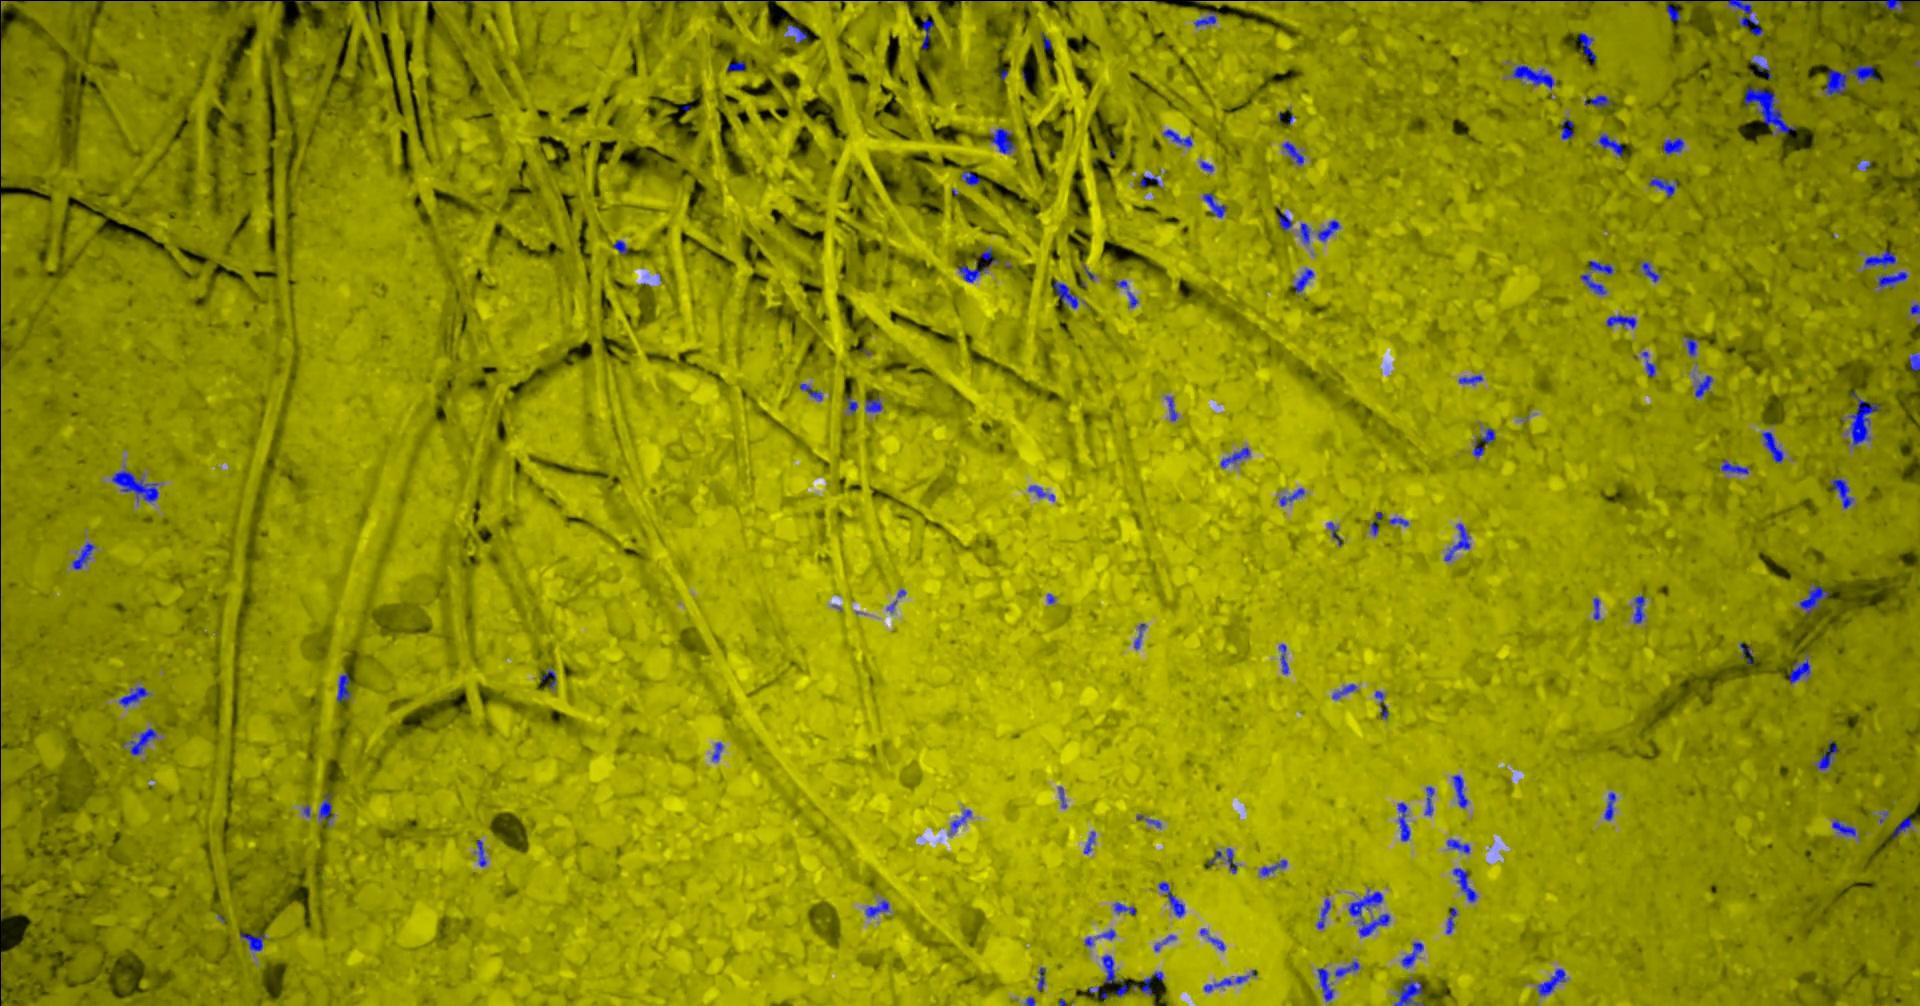ant: (1743, 86, 1796, 133), (1349, 888, 1389, 936), (1823, 64, 1877, 95), (1849, 391, 1879, 446), (110, 469, 157, 500), (1102, 954, 1135, 996), (1727, 0, 1763, 36), (1511, 64, 1554, 89), (1444, 523, 1469, 561), (1158, 882, 1183, 917), (123, 728, 156, 754), (1451, 868, 1477, 902), (1799, 584, 1829, 614), (1845, 0, 1919, 11), (1537, 968, 1564, 996), (1394, 978, 1423, 1005), (1203, 976, 1250, 992), (1051, 279, 1078, 307), (1829, 478, 1853, 508), (1761, 431, 1783, 462), (1472, 427, 1495, 456), (1815, 741, 1837, 768), (118, 686, 149, 706), (989, 128, 1015, 152), (71, 542, 94, 569), (1577, 32, 1596, 64), (1648, 177, 1677, 197), (1220, 447, 1250, 467), (1203, 192, 1225, 217), (949, 809, 971, 835), (1401, 941, 1423, 967), (1317, 967, 1333, 1001), (1597, 133, 1622, 156), (1788, 658, 1810, 683), (1199, 929, 1224, 950), (1877, 271, 1907, 288), (1580, 273, 1606, 293), (1084, 929, 1115, 946), (1451, 774, 1467, 808), (1890, 815, 1912, 838), (1281, 141, 1303, 165), (1291, 268, 1313, 292), (1140, 970, 1162, 995), (1864, 249, 1895, 265), (1397, 801, 1410, 841), (1317, 218, 1338, 241), (1279, 486, 1304, 506), (317, 793, 333, 824), (1162, 130, 1191, 146), (957, 265, 987, 282), (1258, 859, 1286, 875), (239, 932, 264, 950), (1831, 818, 1855, 836), (1316, 898, 1330, 929), (1639, 260, 1658, 282), (1606, 314, 1636, 328), (1719, 459, 1749, 473), (337, 673, 350, 702), (1694, 375, 1712, 398), (865, 899, 888, 917), (921, 18, 933, 50), (1029, 485, 1054, 500), (786, 24, 808, 42), (799, 384, 822, 400), (1603, 791, 1615, 821), (1332, 683, 1356, 699), (1589, 260, 1613, 274), (1327, 521, 1341, 545), (1335, 962, 1359, 976), (1642, 351, 1655, 376), (1192, 11, 1215, 25), (1583, 95, 1611, 107), (1633, 594, 1644, 622), (1446, 840, 1469, 854), (980, 246, 998, 264), (1662, 137, 1683, 152), (1277, 643, 1288, 673), (1134, 622, 1145, 649), (1445, 907, 1457, 934), (1665, 0, 1679, 22), (1738, 641, 1752, 663), (1559, 119, 1575, 138), (1164, 395, 1176, 420), (540, 669, 555, 688), (1225, 847, 1237, 873), (1112, 902, 1135, 915), (1370, 511, 1382, 535), (1276, 213, 1291, 231), (476, 840, 486, 866), (960, 171, 979, 185), (1083, 831, 1095, 854), (1423, 786, 1432, 815), (1139, 174, 1159, 187), (612, 239, 627, 255), (865, 398, 883, 412), (1458, 373, 1482, 384), (726, 60, 745, 72), (1684, 337, 1697, 356), (711, 742, 723, 761), (844, 398, 857, 413), (1909, 352, 1919, 370), (1388, 517, 1408, 526), (1037, 967, 1045, 989), (1300, 224, 1309, 243), (1592, 597, 1599, 619)
